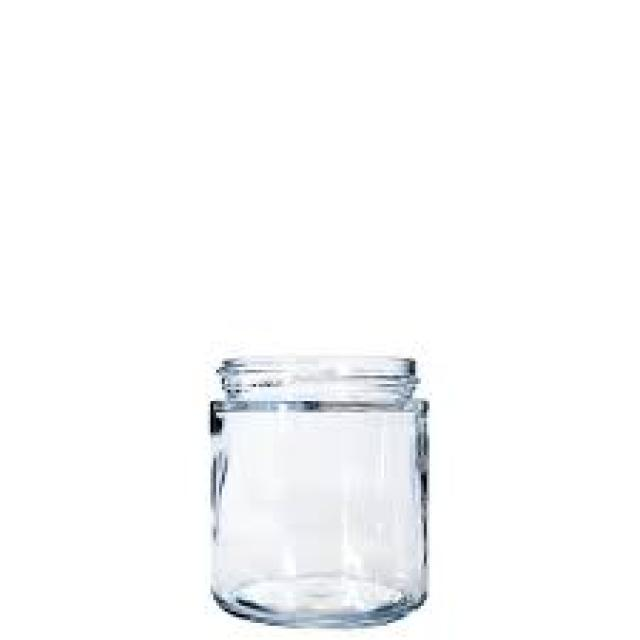glass: (208, 353, 427, 623)
